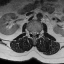CCS_normal: (33, 29, 35, 37)
LFS_normal: (37, 29, 39, 36)
LLS_normal: (35, 29, 37, 36)
RFS_normal: (28, 29, 31, 35)
RLS_normal: (31, 29, 33, 36)
